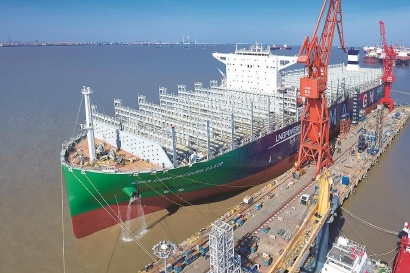Cargoship: (60, 34, 389, 229)
